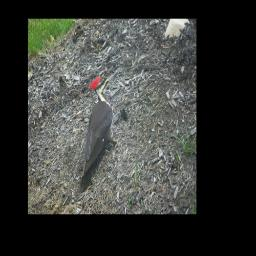Woodpecker: (76, 70, 121, 193)
